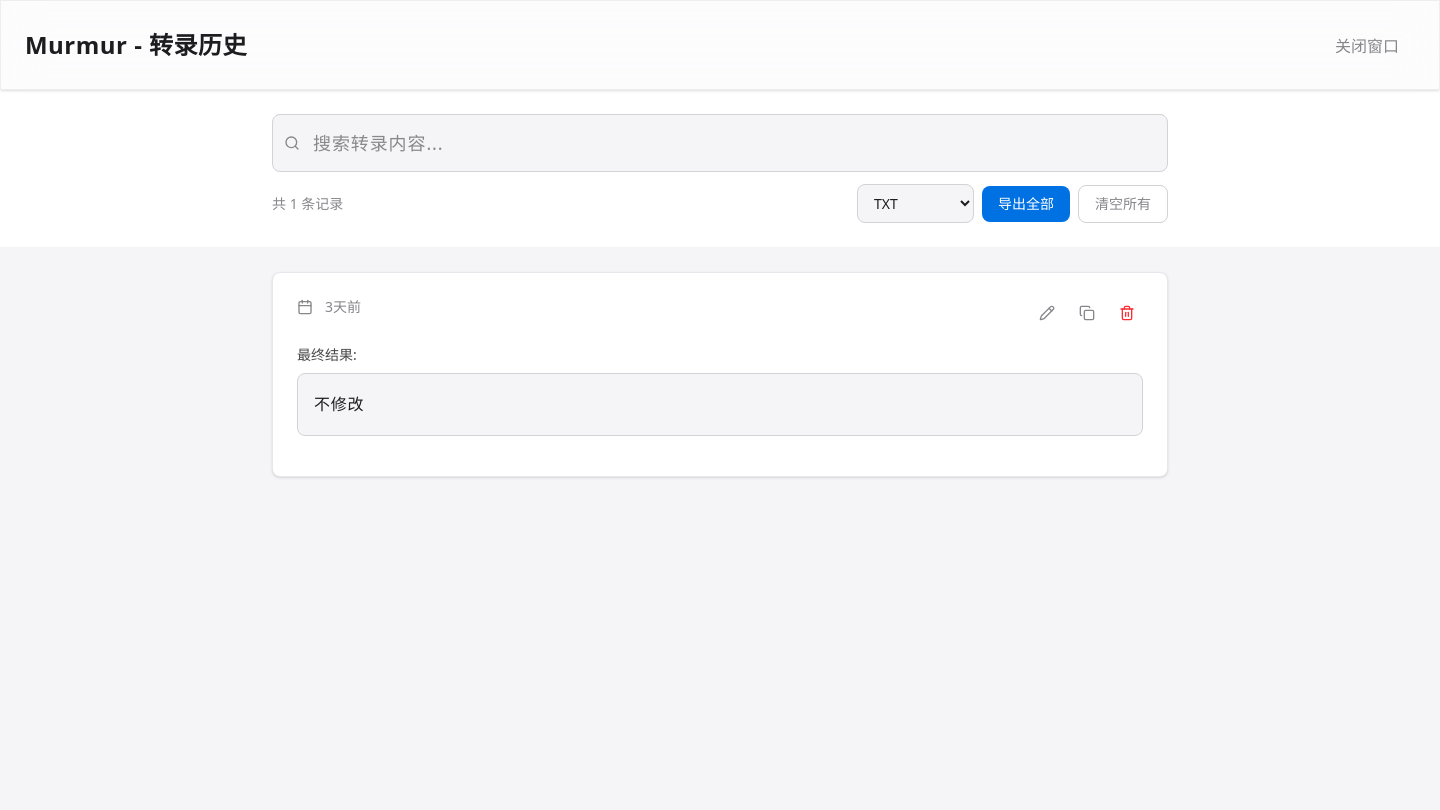
Test: [20260816_Test_HistoryPage] history window entry › cancels the inline editor without touching the bridge
expect the heading "Murmur - 转录历史" is shown: met, box [25,28,247,62]
expect the text "不修改" is shown: met, box [297,373,1143,436]
Click the button titled "编辑记录".
click(1047, 313)  # box [1031,297,1063,329]
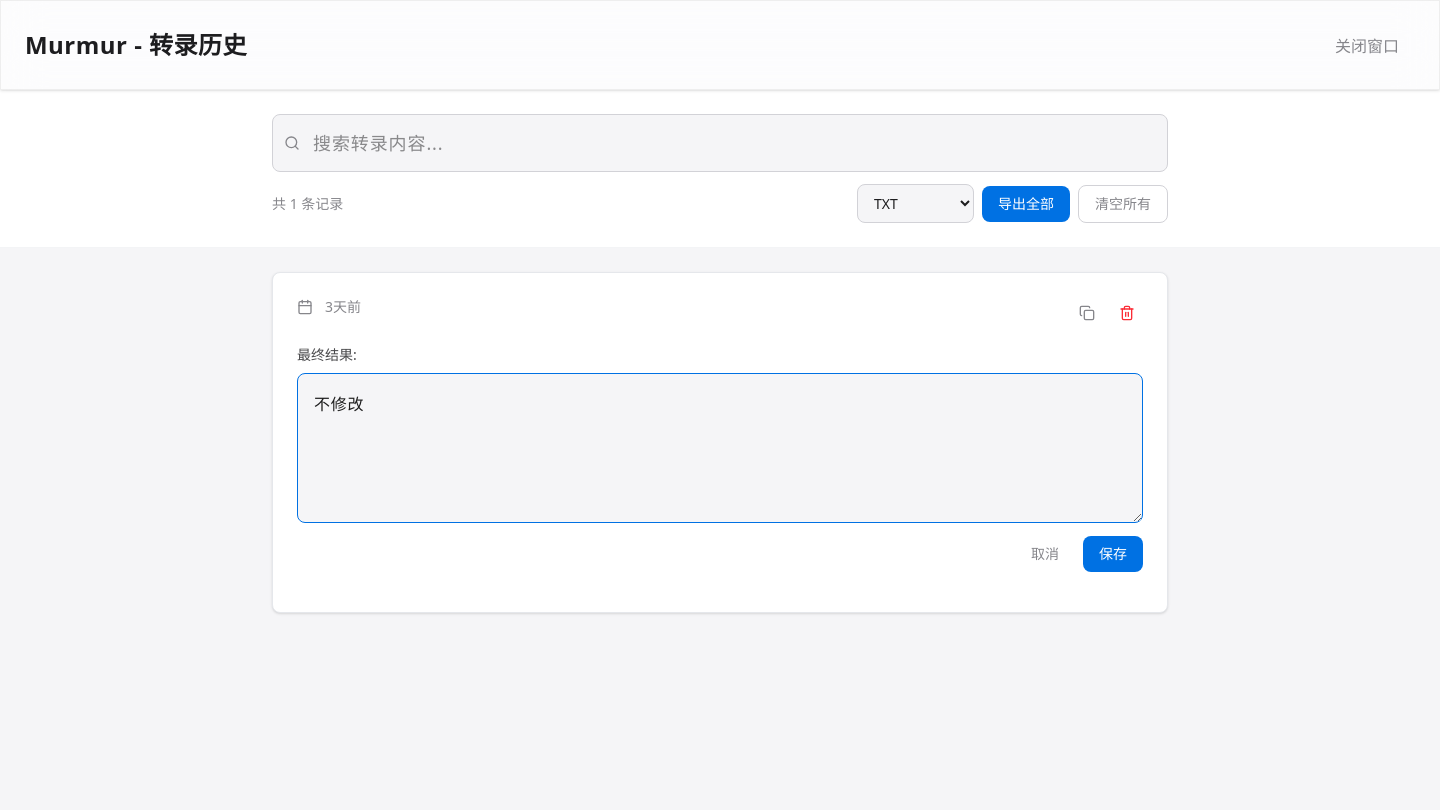
Replace the text in the text box with test id "edit-textarea" with "草稿改动" at (720,448), box [297,373,1143,523]
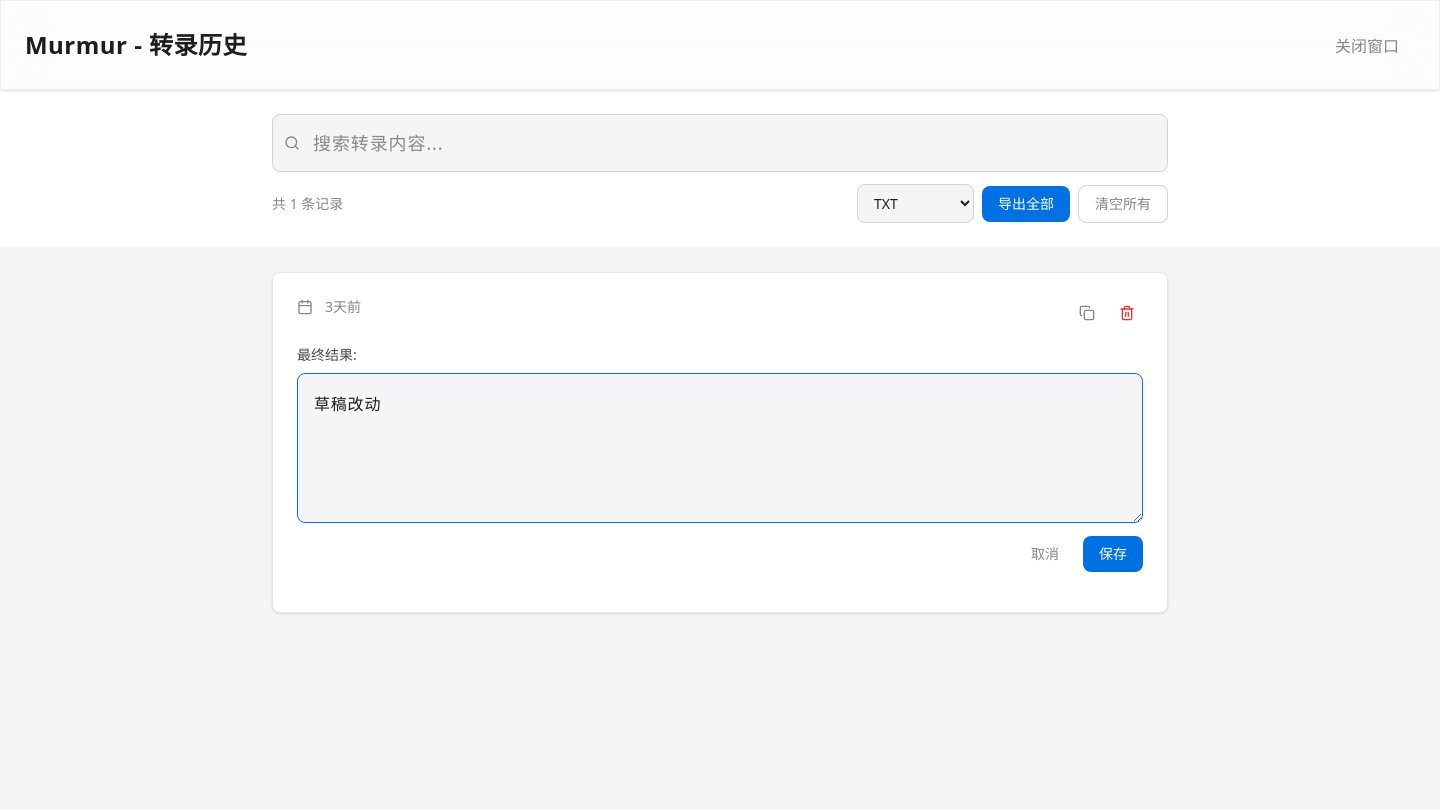
Click the button with test id "edit-cancel".
click(1045, 554)  # box [1015,536,1075,572]
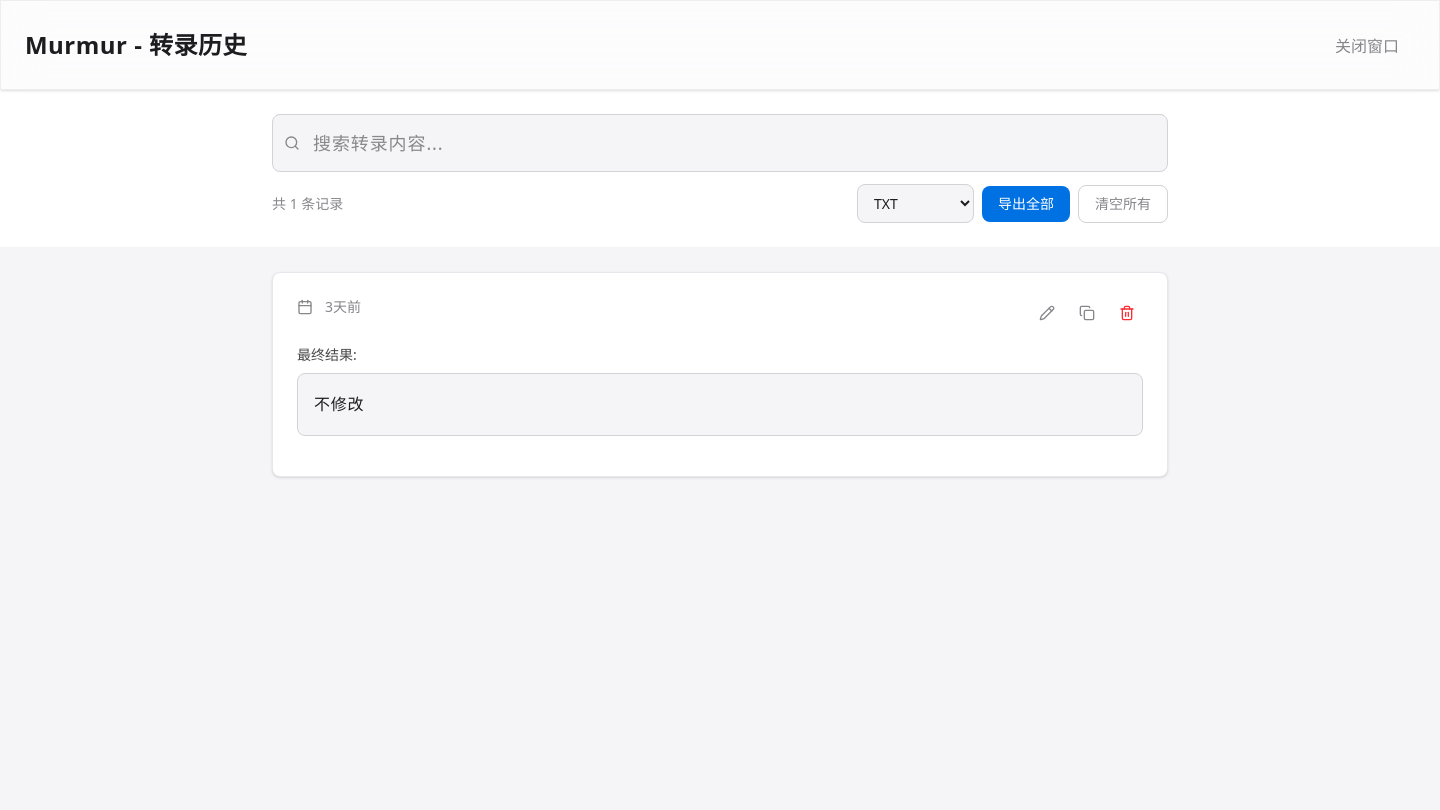
expect the text "不修改" is shown: met, box [297,373,1143,436]
expect the text box with test id "edit-textarea" is gone: met
